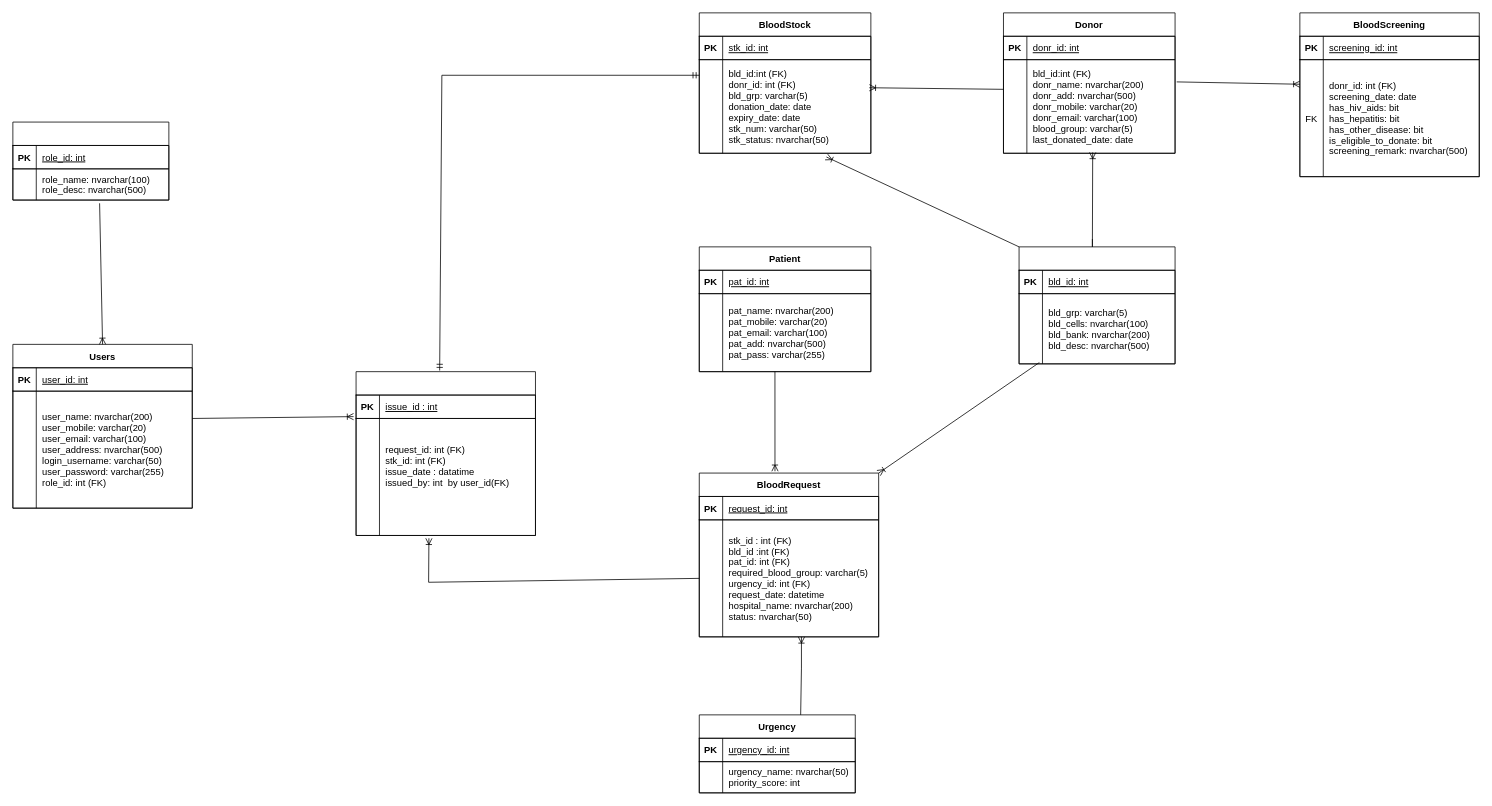
The diagram is 1492 pixels wide and 806 high, and some of its shapes have lost their labels. Each missing label, with the box of its shape:
Blood: (1018, 246, 1175, 364)
BloodIssue: (355, 371, 535, 535)
Roles: (12, 121, 169, 200)
